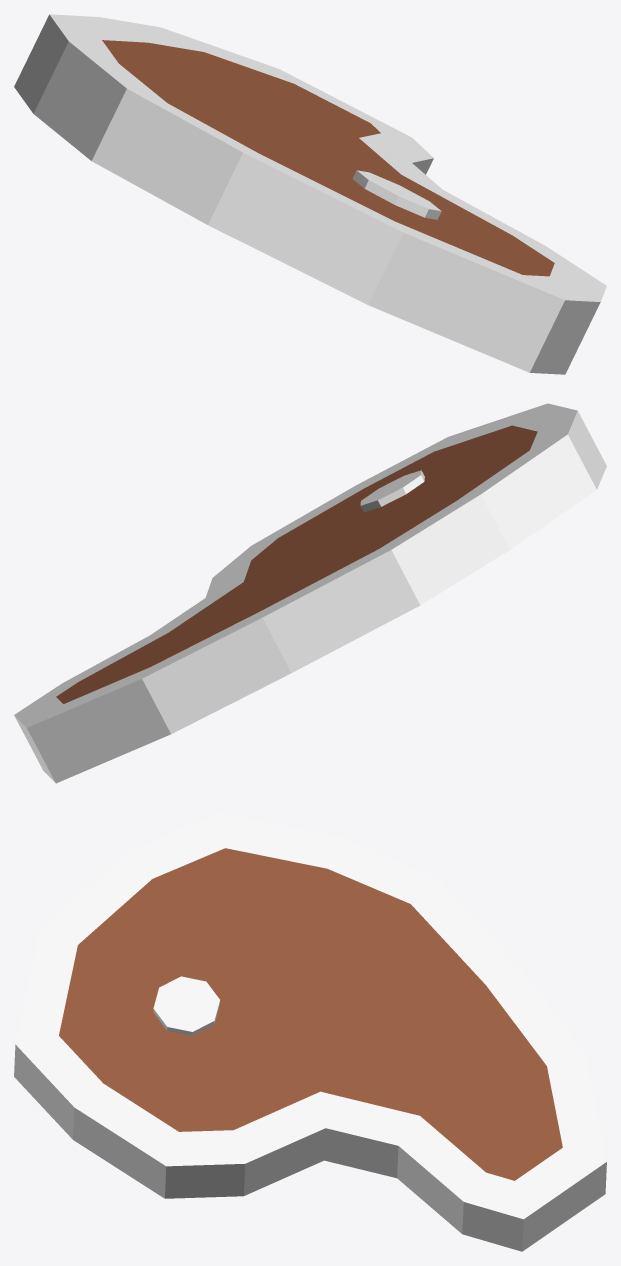
3 views of the same model, one above another, from view 1: azimuth 30°, elevation 25°; view 2: azimuth 150°, elevation 25°; view 3: azimuth 270°, elevation 25° (orthographic). The views are drawn at different scales.
Visible parts, largest first — view 1: Meat; view 2: Meat; view 3: Meat.
Part boxes in pixels (<box>): Meat: <box>14,14,606,374</box>; Meat: <box>14,403,606,783</box>; Meat: <box>14,812,606,1251</box>.
Bounding box in the file's own units: 196 × 136 × 263.
